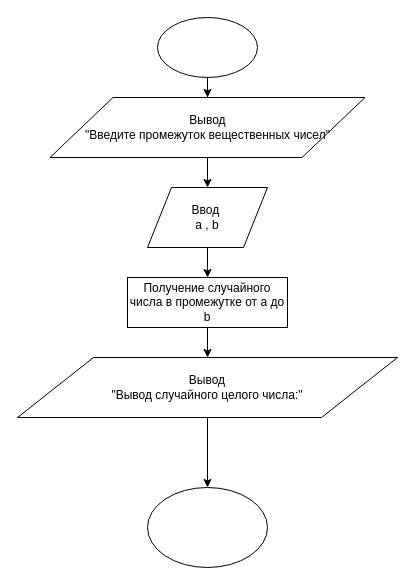
The diagram is 415 pixels wide and 585 high, and some of its shapes have lost their labels. Here are the shapes that lost their labels. From the top down, the box of each, then its label:
(156, 16, 258, 78): начало
(146, 486, 268, 568): Конец
